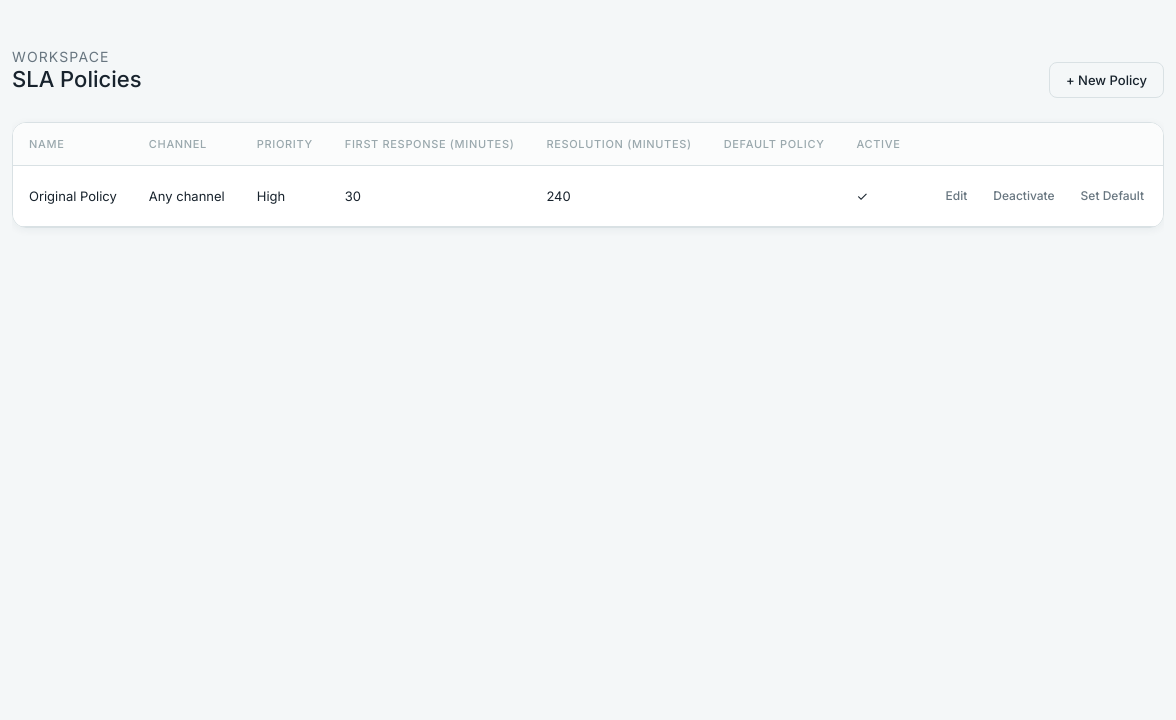
Test: SlaPoliciesManagementView › opens the edit form pre-filled and submits the update
Step 1. Click the button "Edit" → (956, 196), box [932,180,980,212]
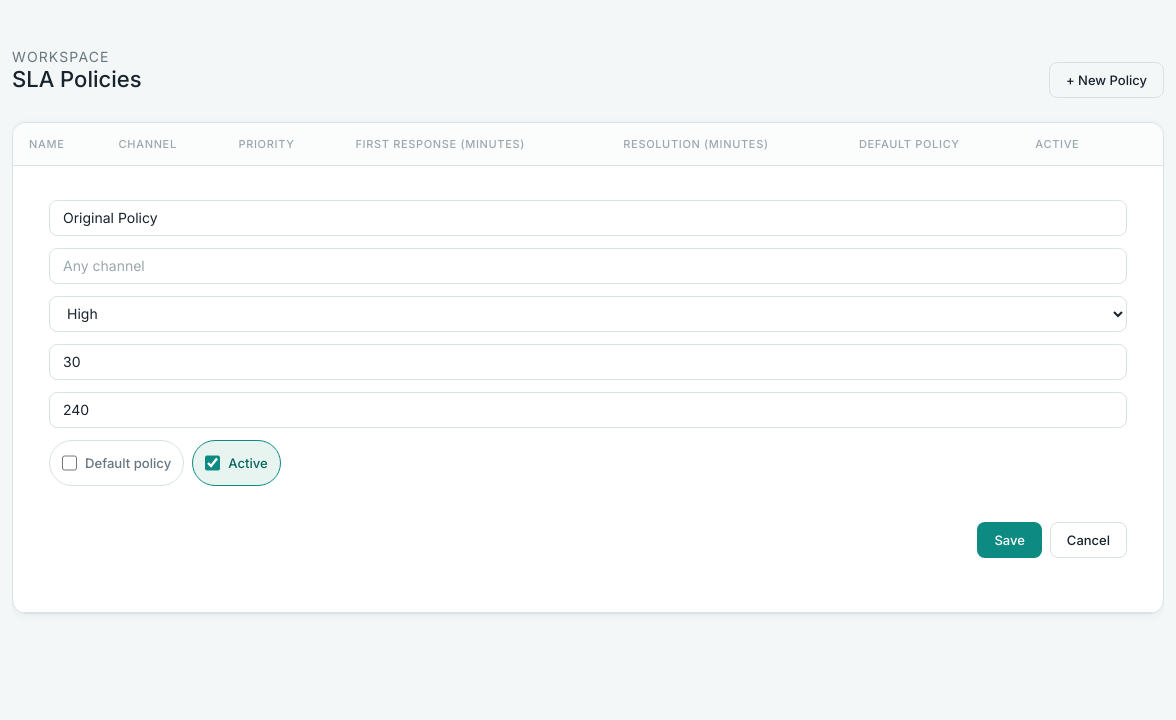
Now the 1st field holds "Original Policy"
Step 2. Replace the text in the 1st field with "Updated Policy" → (588, 218), box [49,200,1127,236]
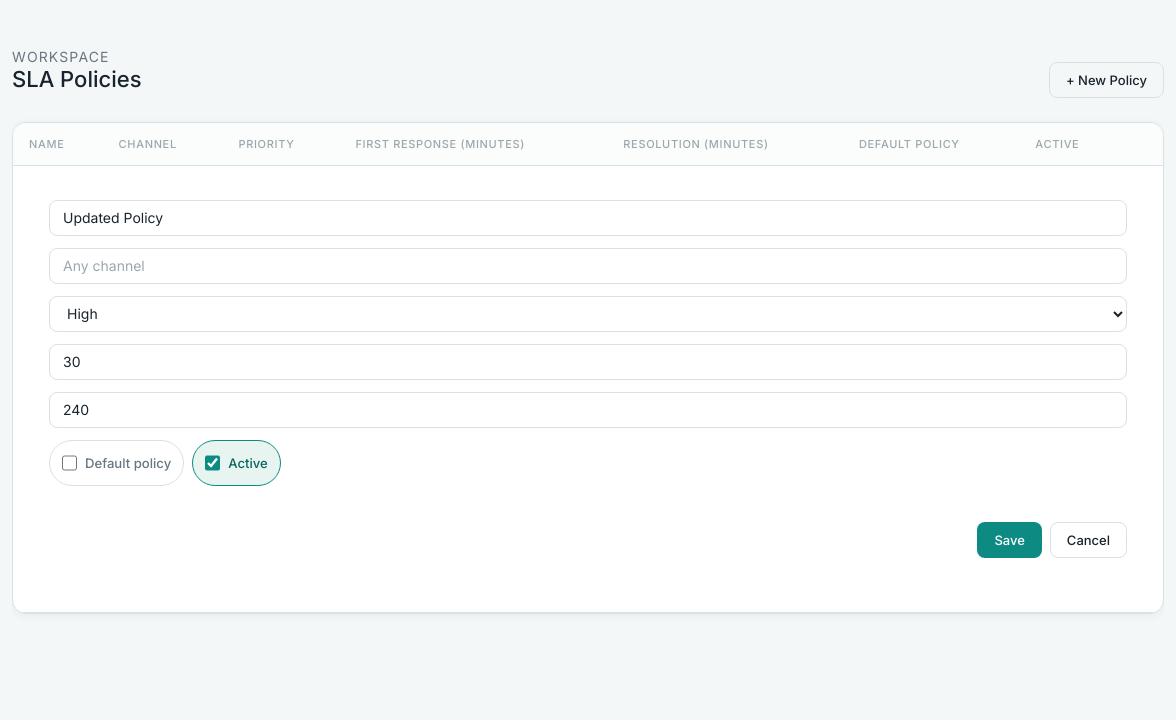
Step 3. Submit the form with class "sla-policy-inline-form", box [29,180,1147,578]
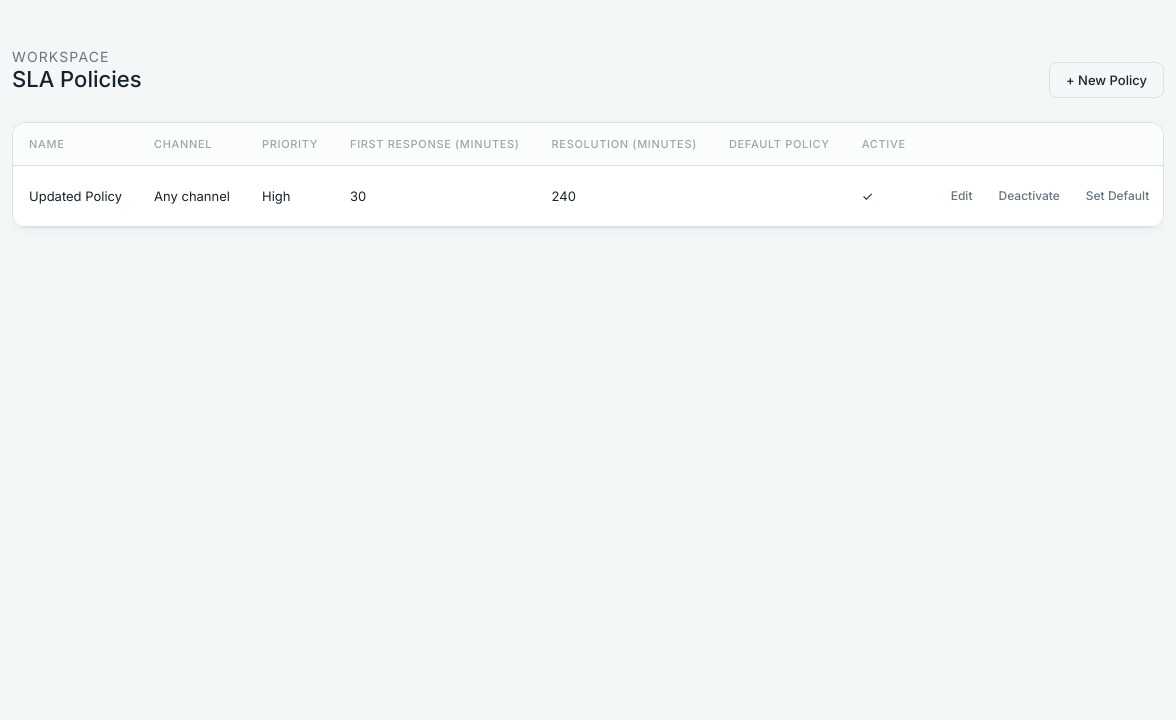
Now the text "Updated Policy" is shown, box [13,165,138,226]
